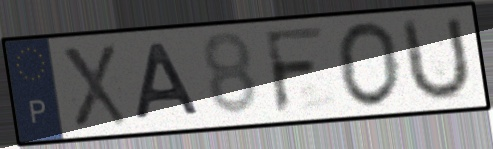8: (198, 30, 267, 122)
A: (133, 40, 206, 124)
F: (260, 23, 329, 117)
O: (333, 20, 404, 110)
U: (400, 12, 474, 106)
X: (57, 42, 131, 131)
